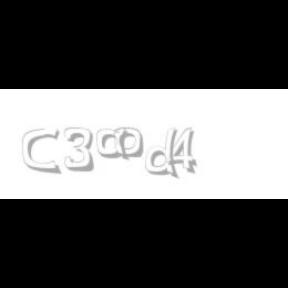3: (64, 128, 96, 172)
4: (166, 128, 198, 174)
C: (22, 128, 60, 174)
a: (97, 128, 134, 160)
d: (145, 128, 182, 180)
o: (114, 128, 142, 158)
